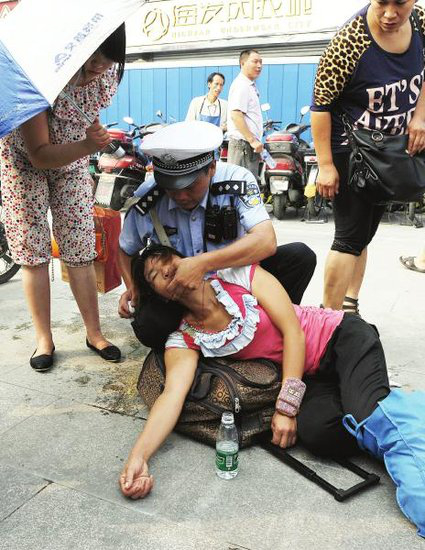fall: (117, 238, 425, 531)
